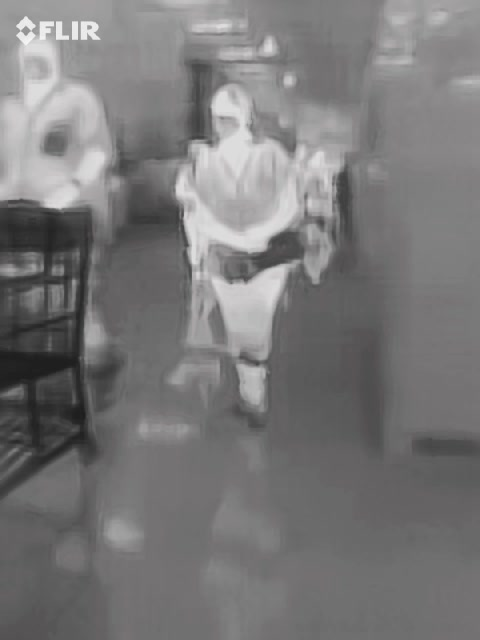head: (210, 84, 258, 143), (13, 34, 60, 87)
